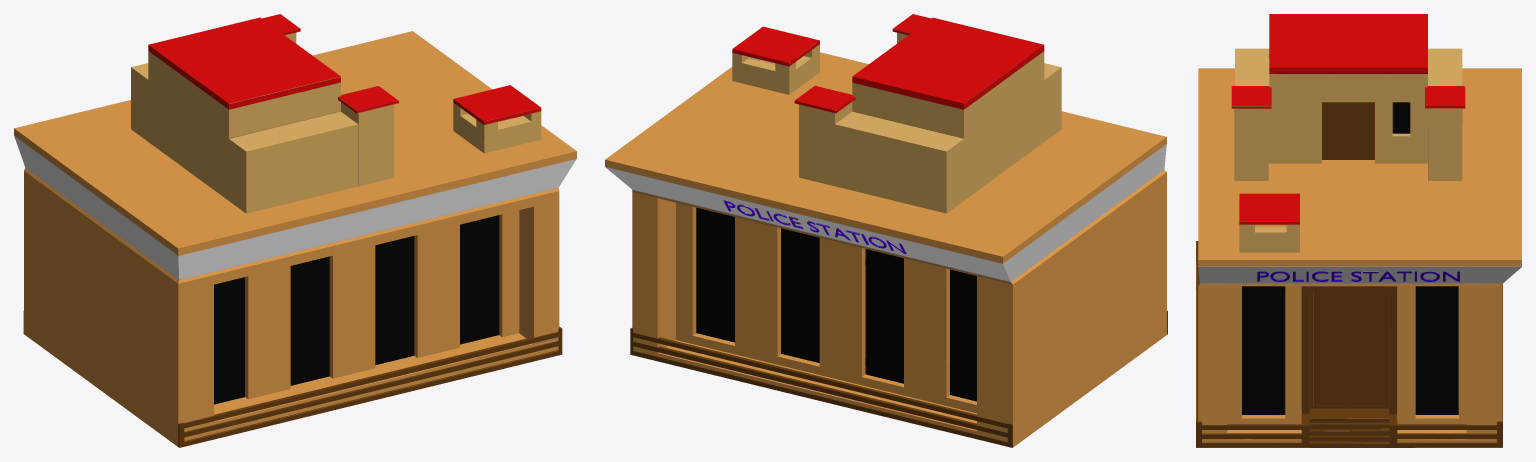
Rendered from pst.fbx.
The picture shows the model from 3 angles, left to right: view 1: azimuth 30°, elevation 25°; view 2: azimuth 150°, elevation 25°; view 3: azimuth 270°, elevation 25°; orthographic projection.
Visible parts, largest first — view 1: Text.005_Text.002; view 2: Text.005_Text.002; view 3: Text.005_Text.002.
Part boxes in pixels (bbox=[...]): Text.005_Text.002: bbox=[14, 14, 576, 447]; Text.005_Text.002: bbox=[605, 14, 1167, 447]; Text.005_Text.002: bbox=[1196, 14, 1521, 447].
Bounding box in the file's own units: 678 × 481 × 487.
1 material, 1 textured.
